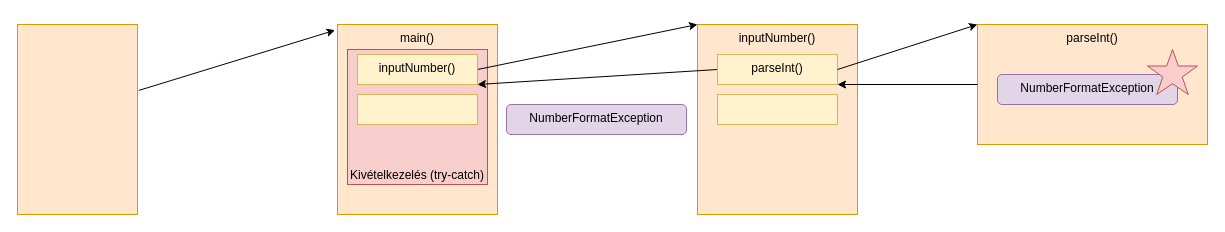
This 1225x232 diagram has some shape labels left out. Each missing label, with the centre of its shape:
"JVM" belongs at point (77, 119).
"return" belongs at point (777, 109).
"System.out.println()" belongs at point (417, 109).
